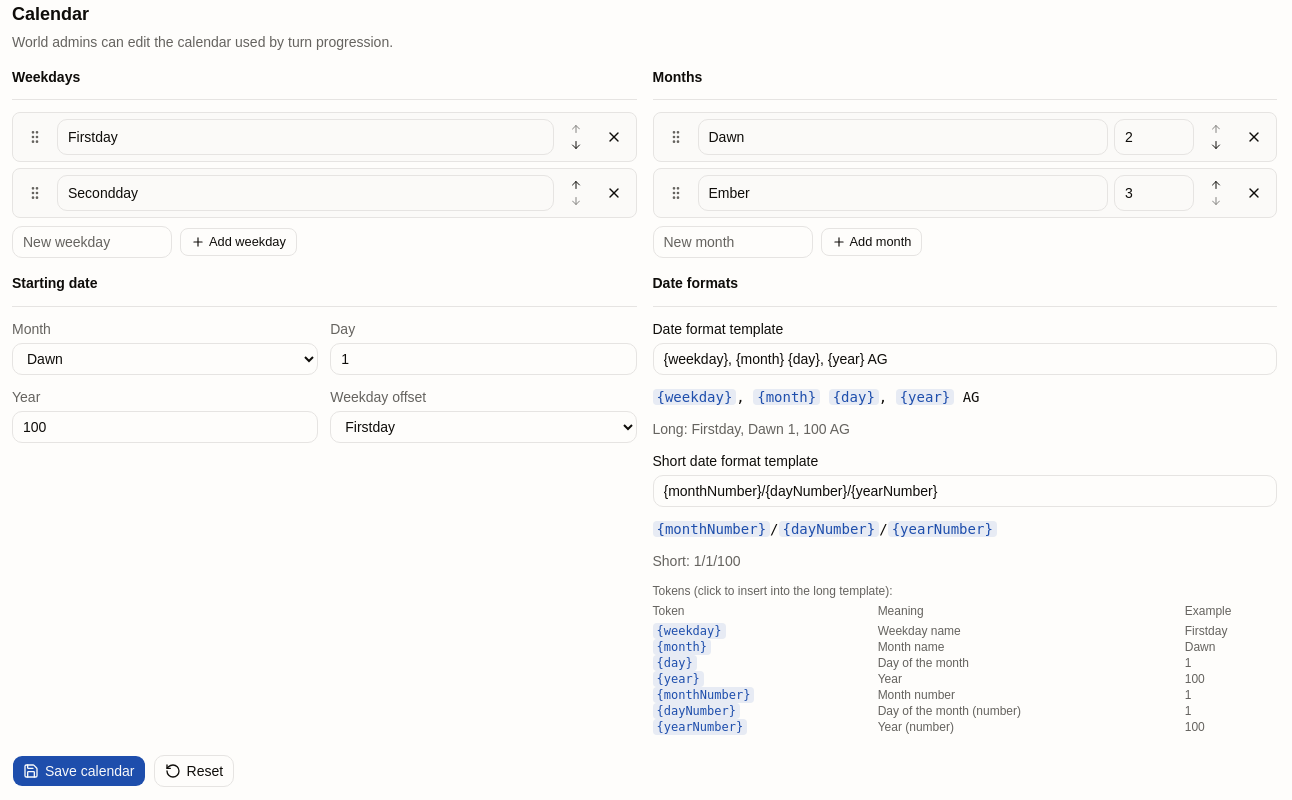
WorldCalendarConfigPanel › blocks save and exposes an accessible error when months are empty
Expected: the heading "Calendar" is shown, [12,4,89,24]
Click the button named "Remove months 1": [1254, 137] box [1238,121,1270,153]
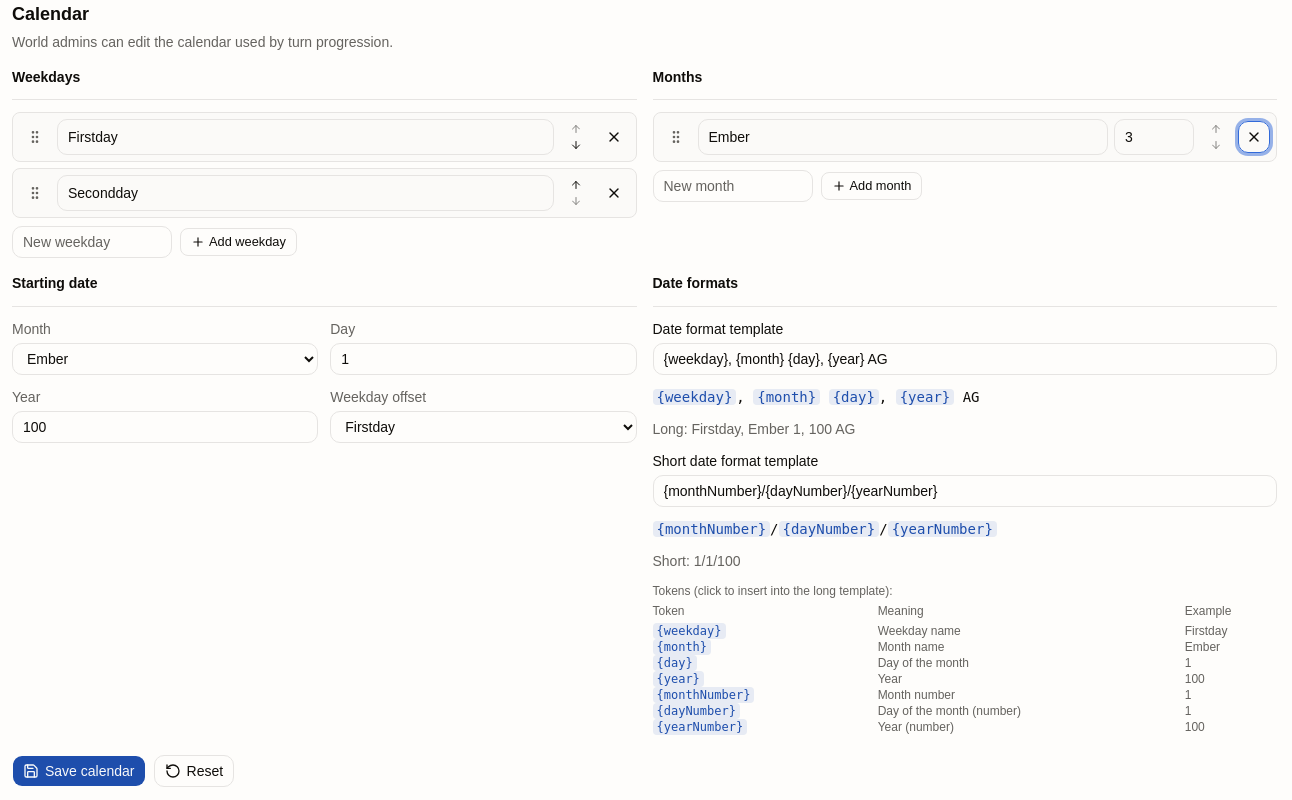
Click the button named "Remove months 1": [1254, 137] box [1238,121,1270,153]
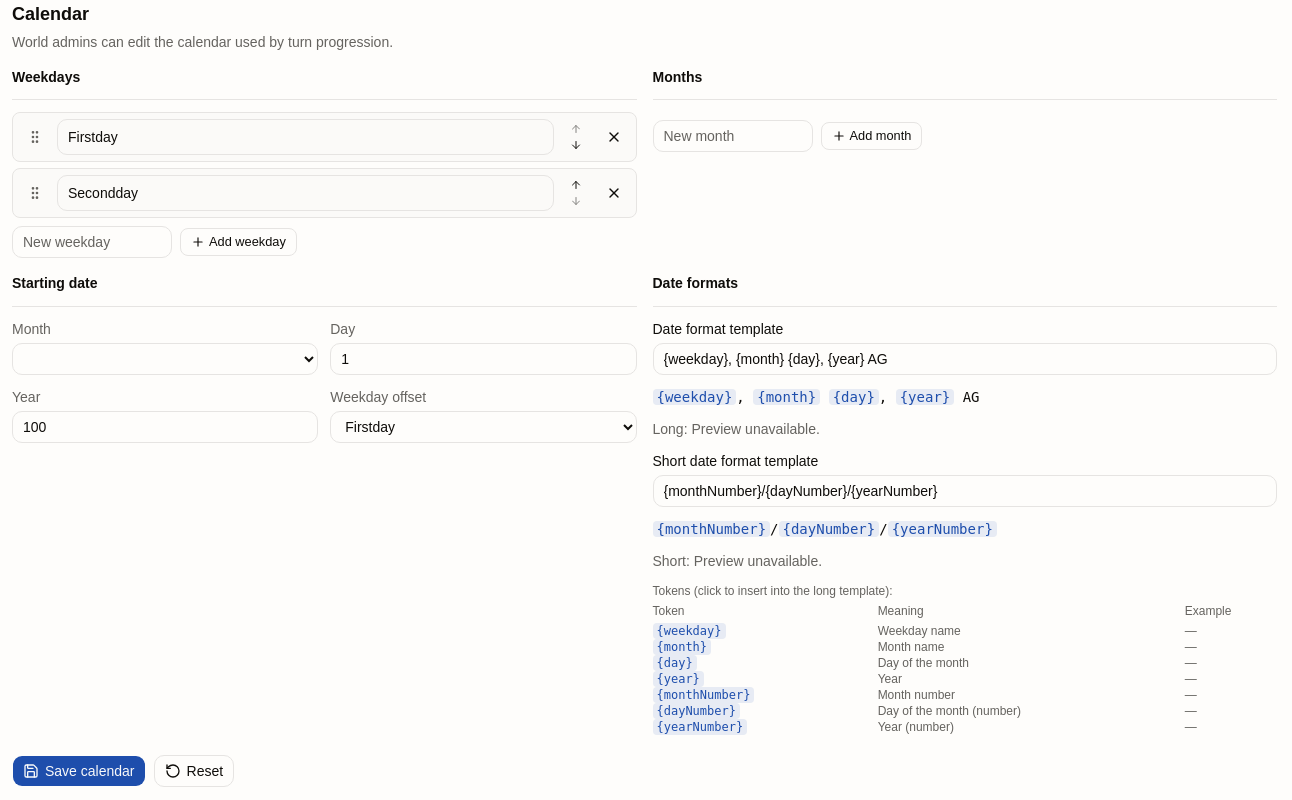
Click the button "Save calendar": [79, 770] box [12,754,146,786]
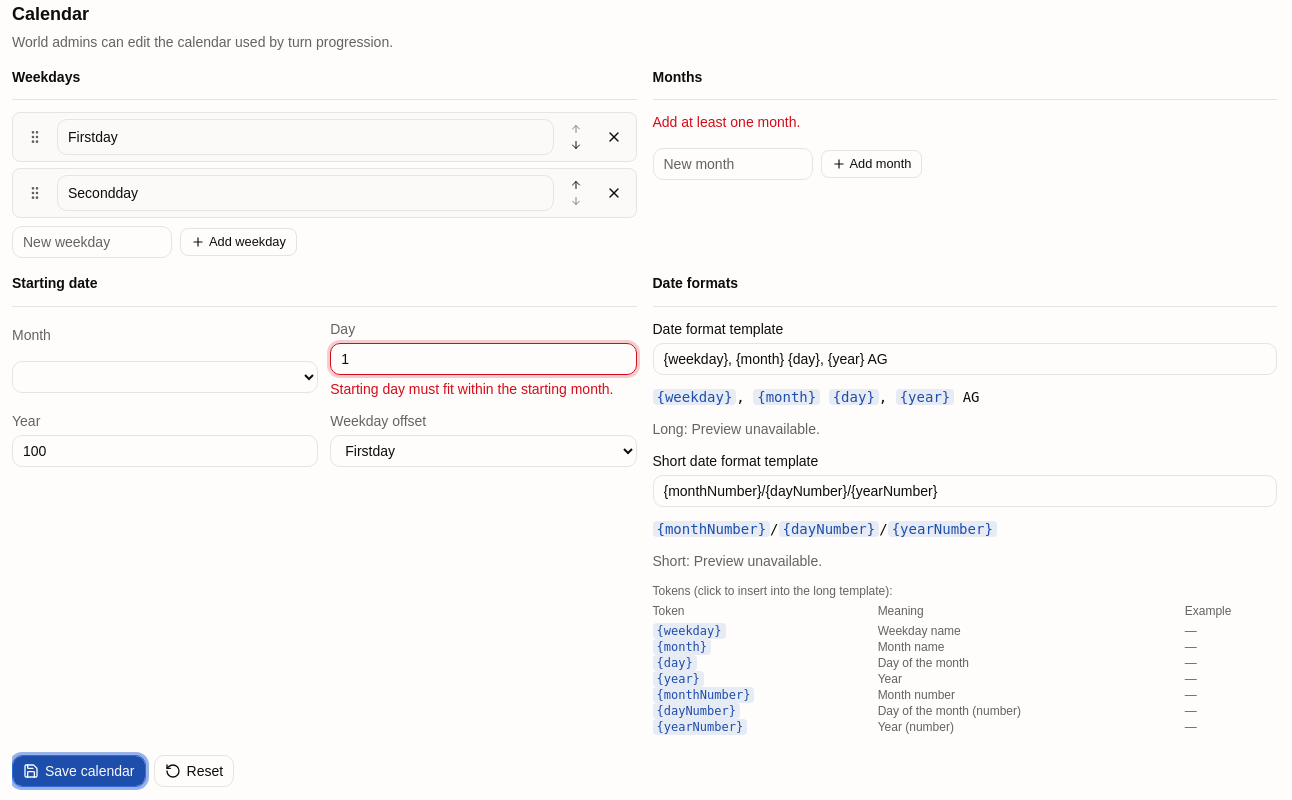
Result: the text "Add at least one month." is shown at [652,114,800,130]
